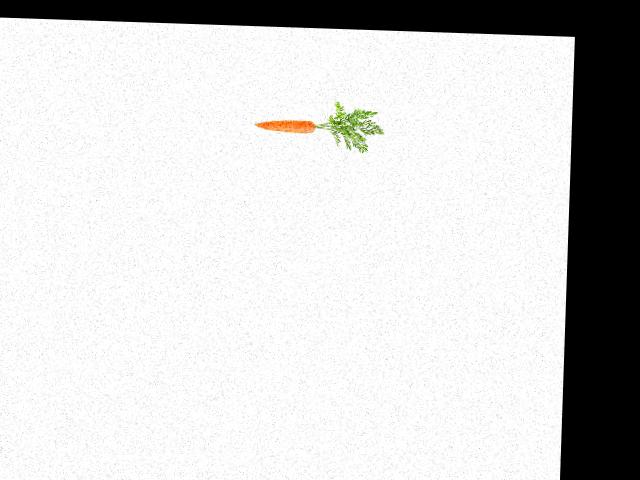carrot: (251, 115, 317, 134)
